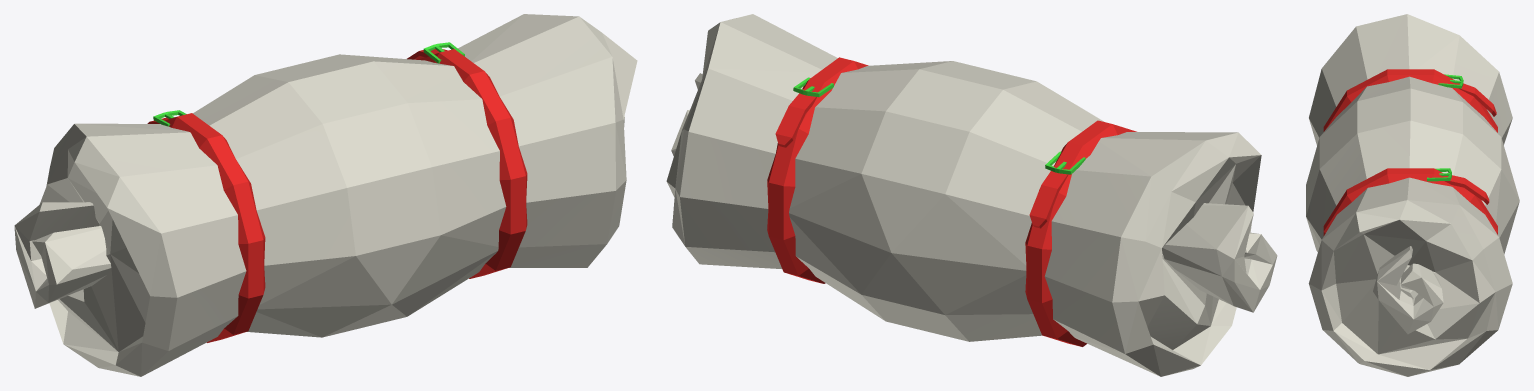
Rendered from MatressRoll.fbx.
3 views of the same model, side by side, from view 1: azimuth 30°, elevation 25°; view 2: azimuth 150°, elevation 25°; view 3: azimuth 270°, elevation 25° (orthographic). The views are drawn at different scales.
Visible parts, largest first — view 1: Cube.017; view 2: Cube.017; view 3: Cube.017.
Part boxes in pixels (box(x1,y1,x2,y2)): Cube.017: box(14, 14, 637, 376); Cube.017: box(666, 14, 1277, 376); Cube.017: box(1306, 14, 1519, 376).
Size of the model in its own units: 56.17 by 23.16 by 23.43.
